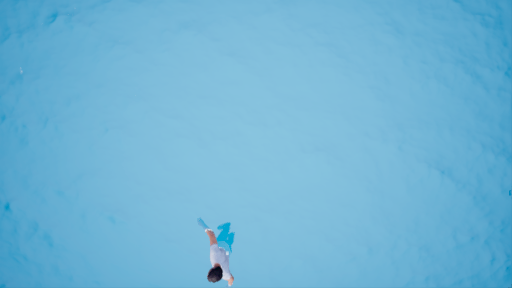person: (195, 215, 247, 286)
